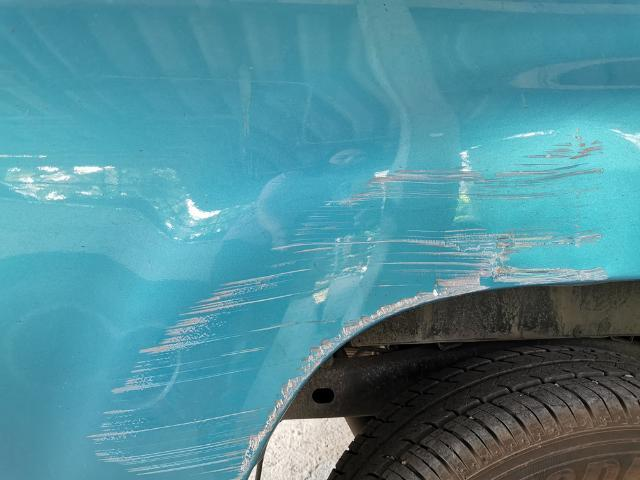scratch: (83, 128, 610, 480)
